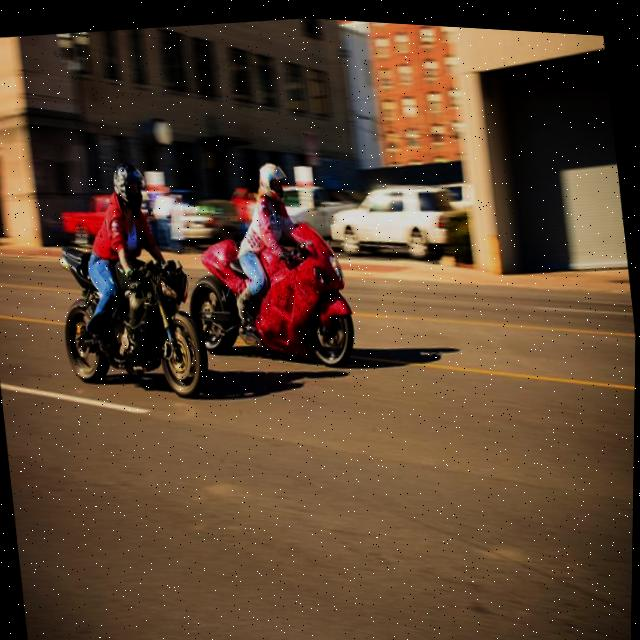car: (322, 158, 472, 272)
motorcycle: (171, 160, 383, 387), (46, 213, 220, 417)
